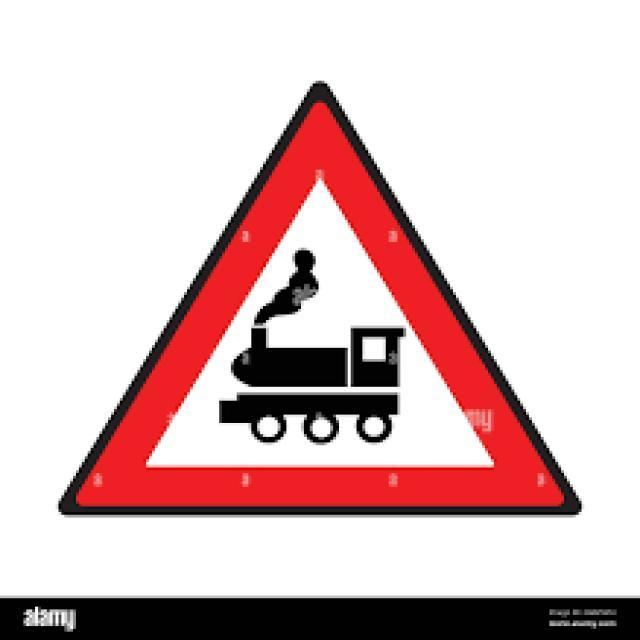unguarded level crossing: (65, 91, 570, 523)
